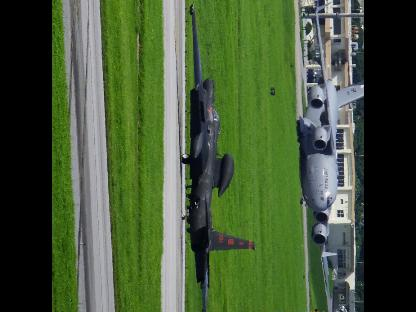C2: (296, 0, 363, 257)
Tu160: (182, 3, 257, 311)
